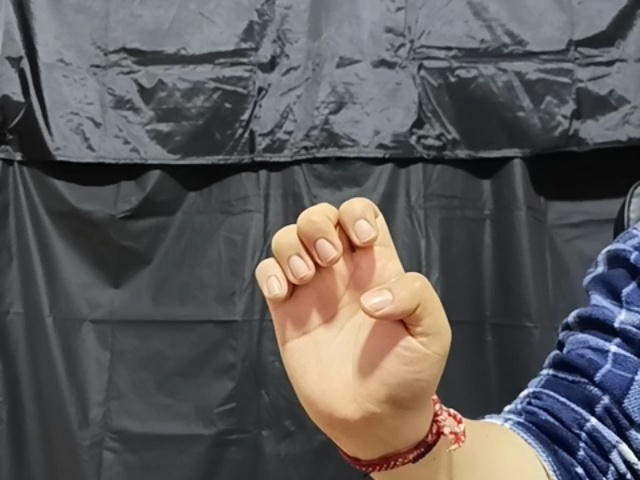E: (251, 192, 457, 446)
